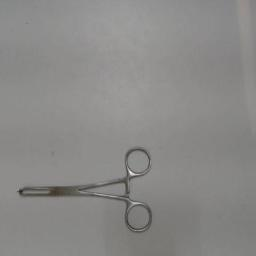Allis Tissue Forceps: (13, 141, 155, 237)
